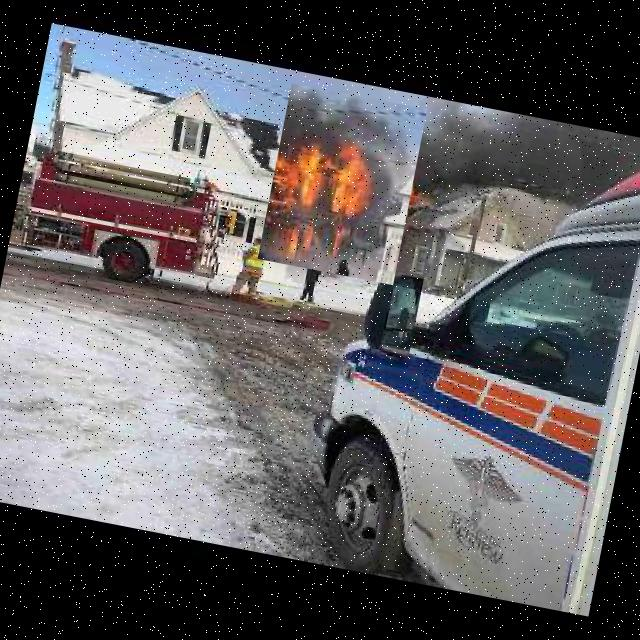fire: (258, 84, 428, 286)
